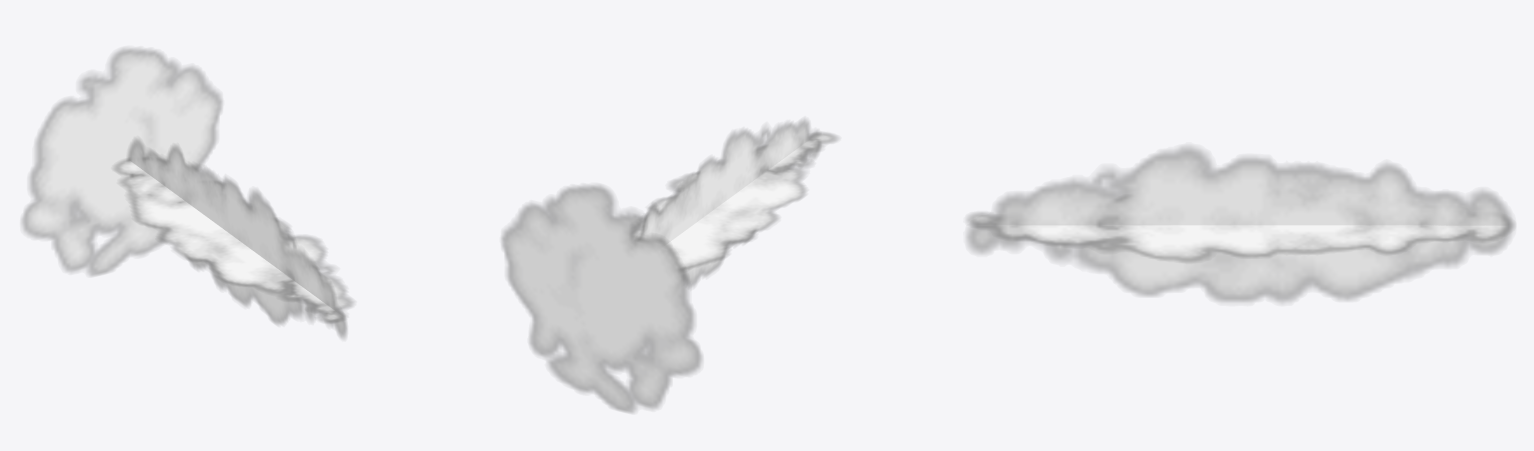
Rendered from si_eam_0010.glb.
The picture shows the model from 3 angles, left to right: view 1: azimuth 30°, elevation 25°; view 2: azimuth 150°, elevation 25°; view 3: azimuth 270°, elevation 25°; orthographic projection. The views are drawn at different scales.
Parts seen in each view (by area): view 1: layer_01_si_est_0005, layer_00_si_est_0005; view 2: layer_01_si_est_0005, layer_00_si_est_0005; view 3: layer_00_si_est_0005.
Boxes of the visible parts, x1,y1,x2,y2 form: layer_01_si_est_0005: [22, 48, 222, 275]; layer_00_si_est_0005: [114, 139, 353, 338]; layer_01_si_est_0005: [501, 185, 701, 412]; layer_00_si_est_0005: [630, 119, 837, 287]; layer_00_si_est_0005: [967, 146, 1514, 302].
Bounding box in the file's own units: 20 × 20 × 35.
1 material, 1 textured.
